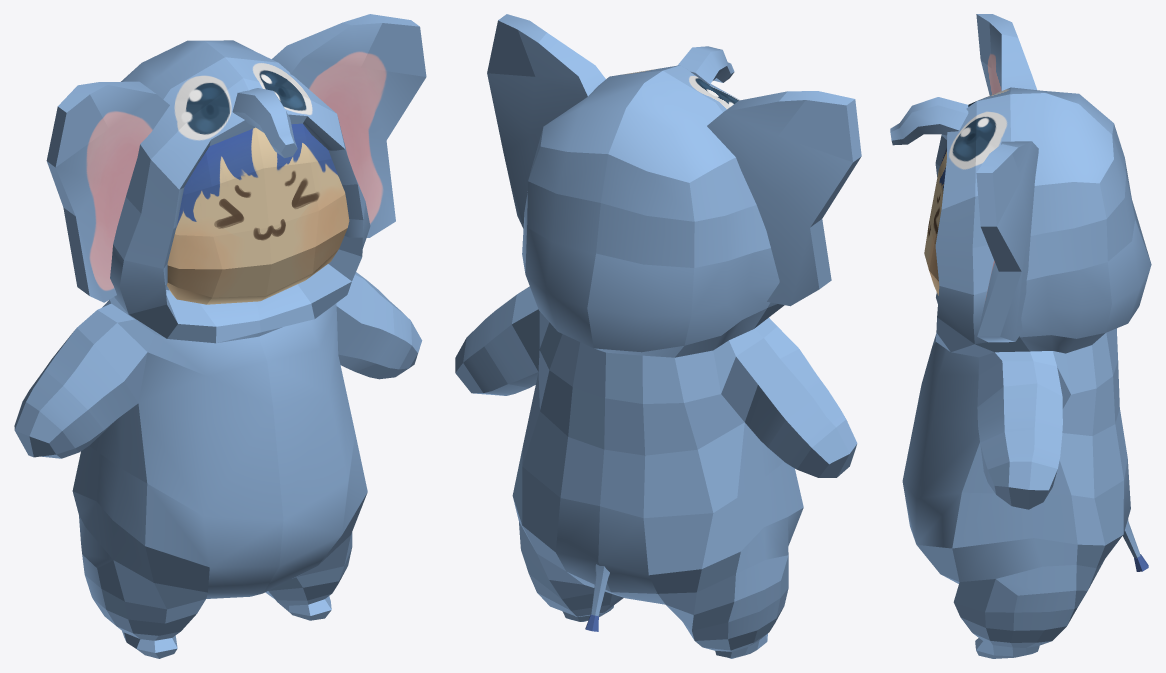
The model's file is eli.fbx.
3 renders of one model, left to right at view 1: azimuth 30°, elevation 25°; view 2: azimuth 150°, elevation 25°; view 3: azimuth 270°, elevation 25°, orthographic. The views are drawn at different scales.
Visible parts, largest first — view 1: Eli, headLP3; view 2: Eli; view 3: Eli, headLP3.
Boxes of the visible parts, x1=… form: Eli: x1=14, y1=14, x2=426, y2=658; headLP3: x1=167, y1=123, x2=349, y2=304; Eli: x1=455, y1=14, x2=861, y2=658; Eli: x1=890, y1=14, x2=1151, y2=658; headLP3: x1=924, y1=148, x2=946, y2=295.
Bounding box in the file's own units: 10.21 × 14.06 × 6.27.
